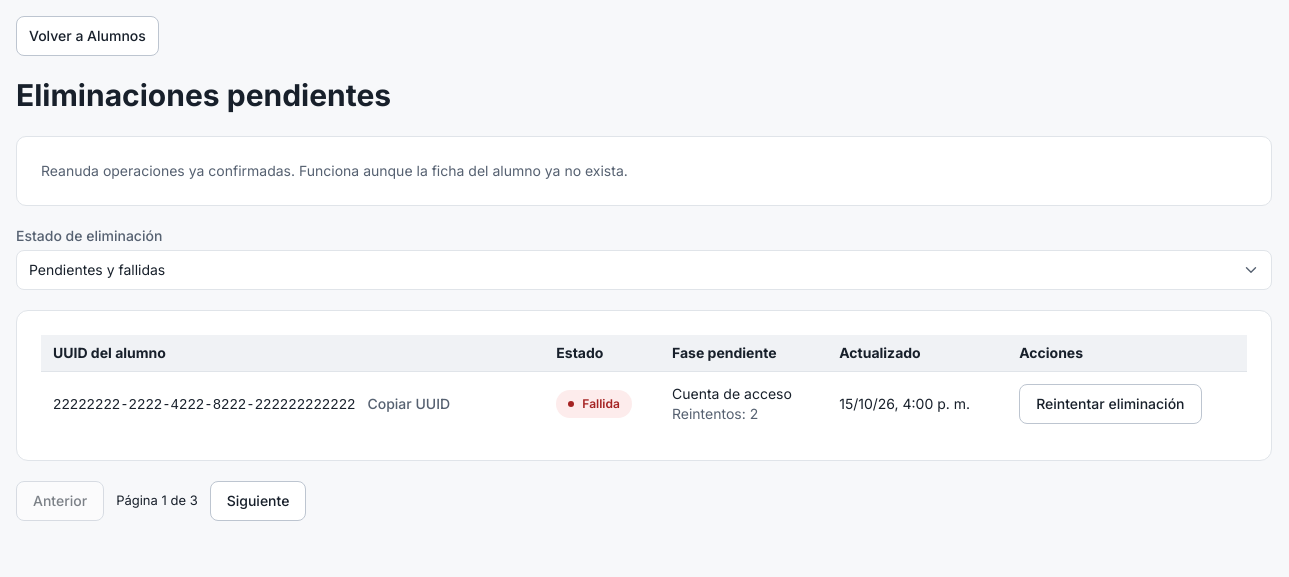
it: eliminaciones sin perfil › DELETION_INCOMPLETE refresca la consulta sin reenvío automático
Click the button "Reintentar eliminación" at (1110, 404), box [1019,384,1202,424]
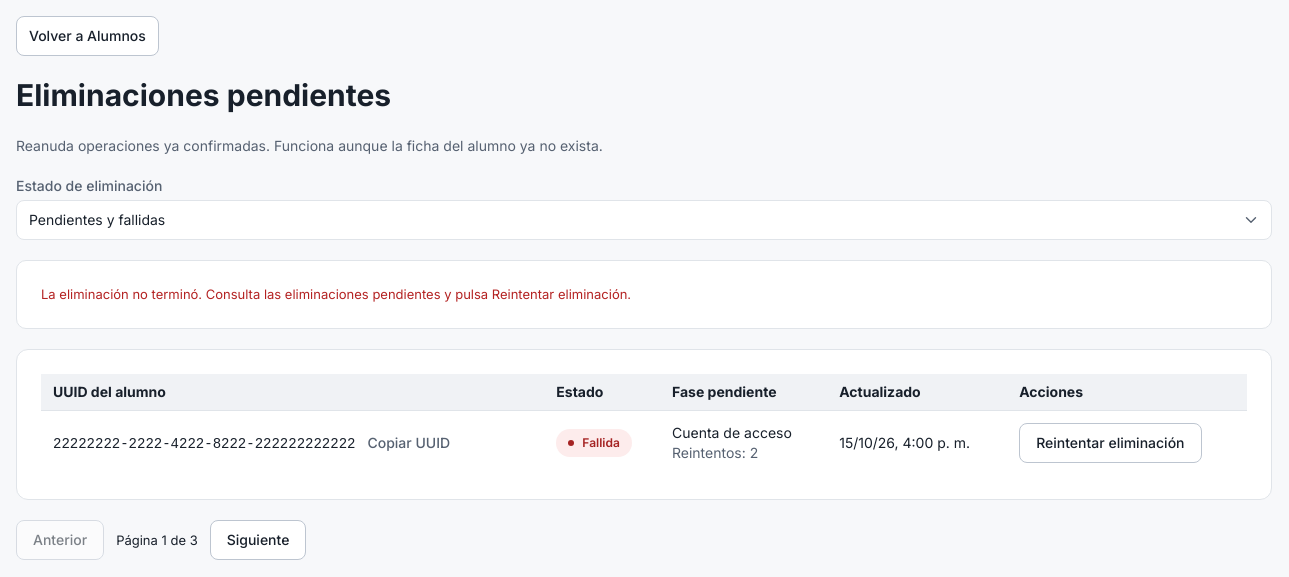
Now the message is shown, box [16,260,1272,330]
